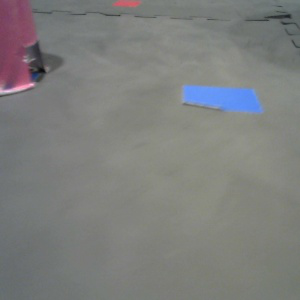middle: (1, 1, 50, 96)
